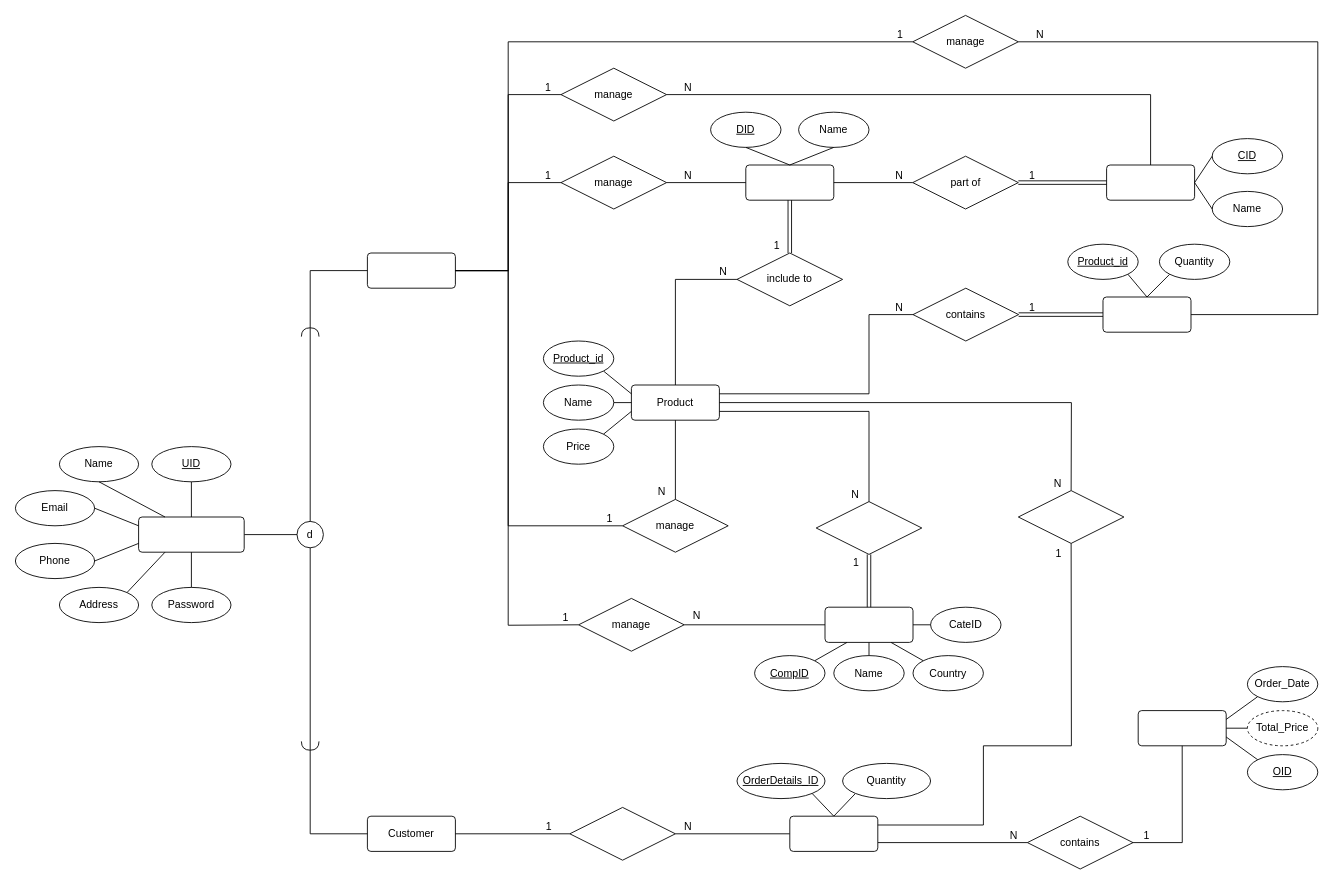
Some shapes in this 1334 by 884 pixel diagram are drawn without their labels. Each missing label, with the centre of its shape:
"Admin" goes at point (411, 270).
"Category" goes at point (1150, 182).
"Company" goes at point (868, 624).
"Department" goes at point (789, 182).
"include" goes at point (1070, 516).
"Order" goes at point (1181, 728).
"Order_Details" goes at point (833, 833).
"places" goes at point (622, 833).
"produce" goes at point (868, 527).
"Stock" goes at point (1146, 314).
"User" goes at point (191, 534).
